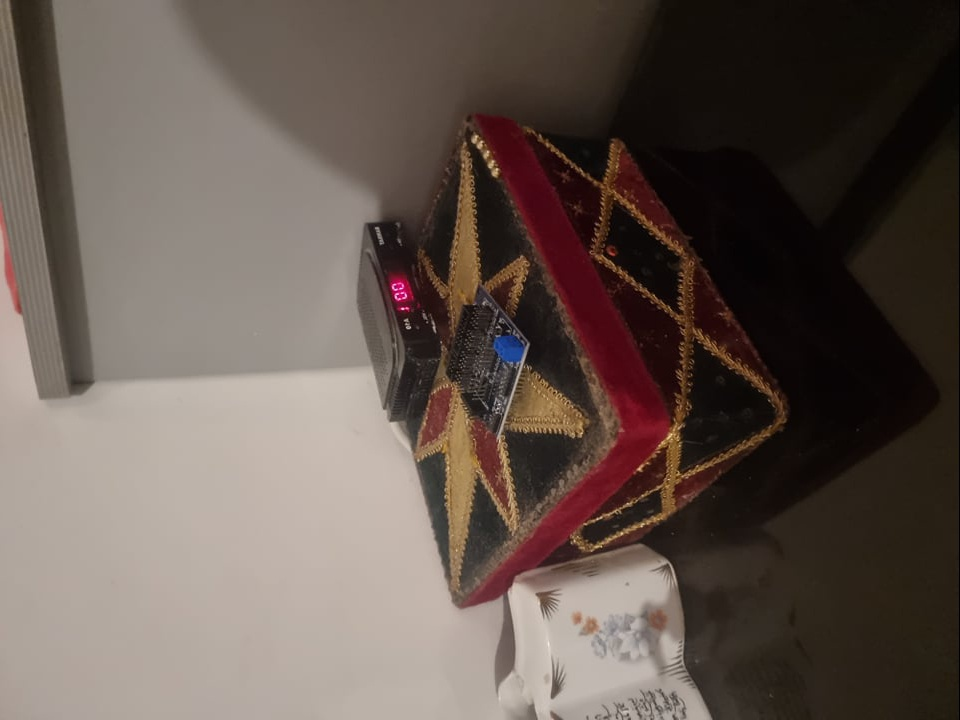5V EXPANSION: (443, 283, 533, 439)
